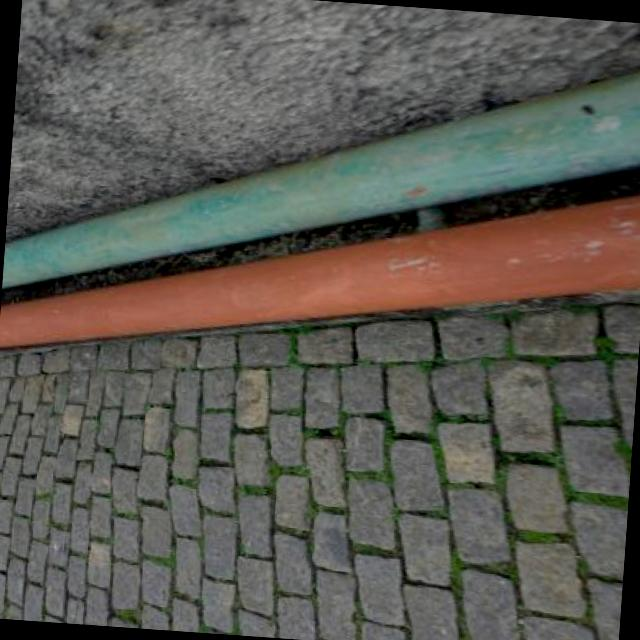gas: (2, 66, 640, 285), (0, 193, 640, 345)
